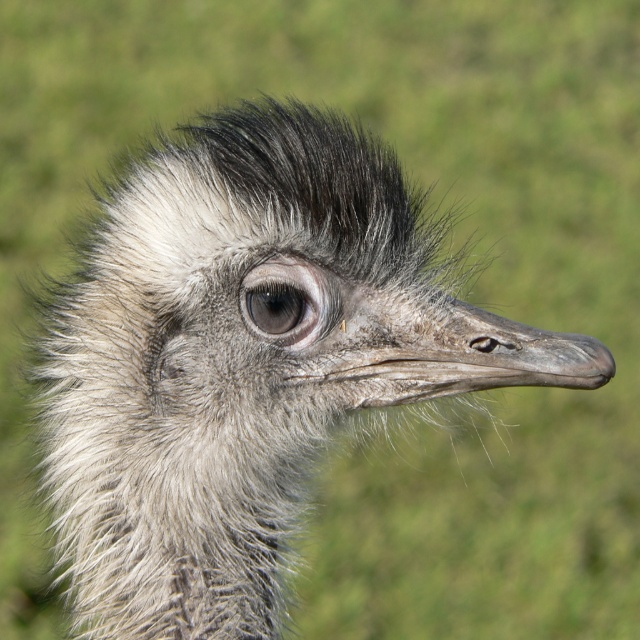Ostrich: (0, 68, 592, 640)
